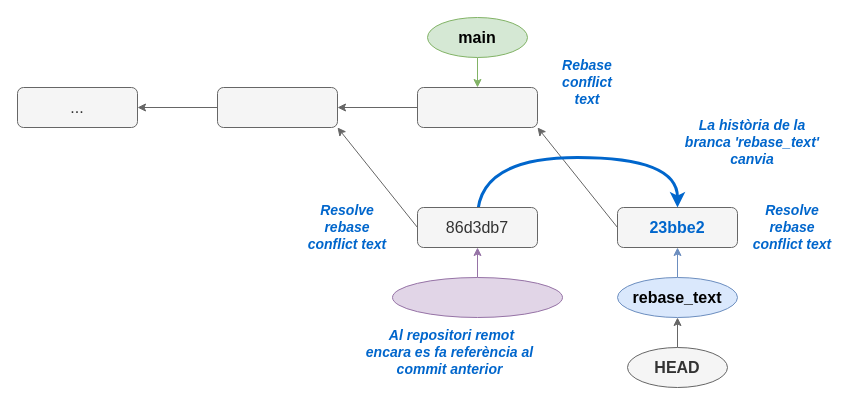
Some shapes in this 855 by 405 pixel diagram are drawn without their labels. The shapes that lost their labels are listed below. From the top down, each one's centre as x and y in pixels, then its label:
At (x=277, y=107): "81403f8".
At (x=477, y=107): "84fe400".
At (x=477, y=297): "origin/rebase_text".
